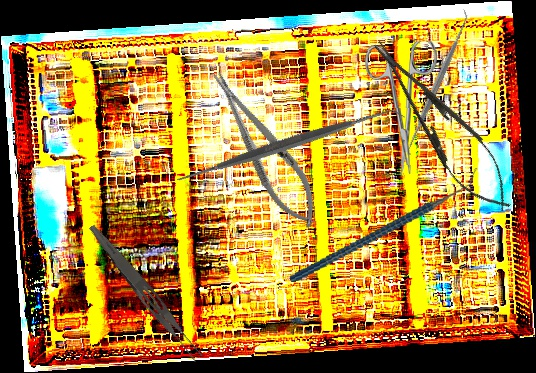Chopper: (277, 167, 491, 283)
Dressing Forceps: (82, 221, 207, 366)
Iris Scissors: (364, 40, 439, 176)
Needle Holder: (358, 27, 526, 224), (198, 61, 332, 237)
Spatula Surgical: (166, 25, 406, 265), (398, 8, 477, 157)
